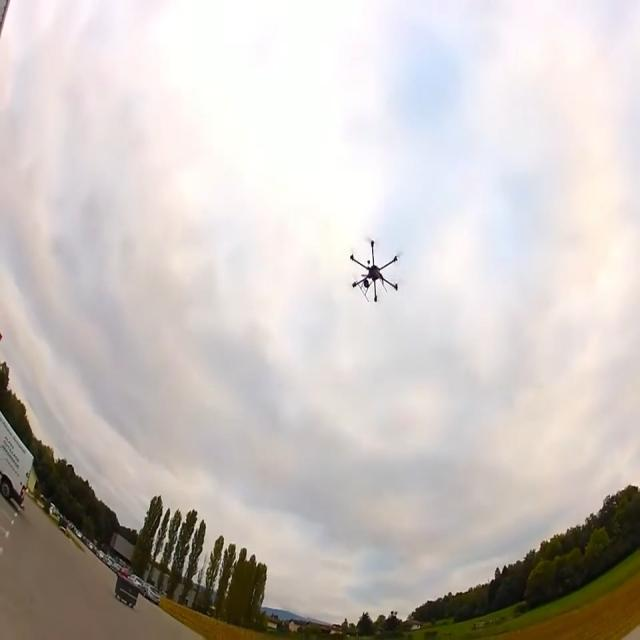drone: (349, 238, 400, 302)
